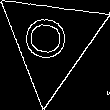O_E: (25, 17, 77, 66)
